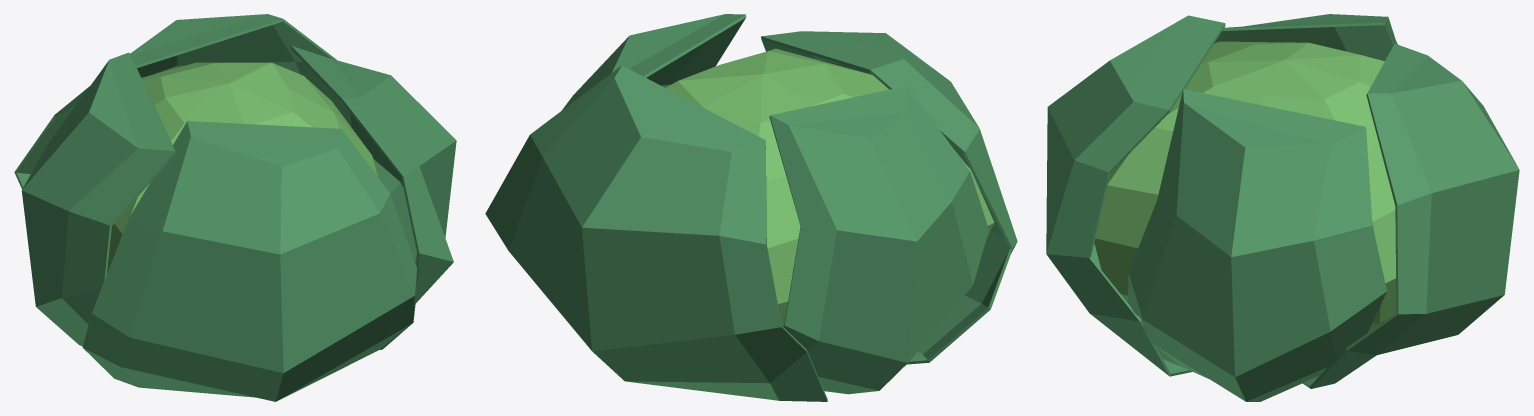
The model's file is Cabbage_Raw.fbx.
3 views of the same model, side by side, from view 1: azimuth 30°, elevation 25°; view 2: azimuth 150°, elevation 25°; view 3: azimuth 270°, elevation 25° (orthographic). The views are drawn at different scales.
Parts seen in each view (by area): view 1: SM_Cabbage_Raw; view 2: SM_Cabbage_Raw; view 3: SM_Cabbage_Raw.
Part boxes in pixels (x1,y1,x2,y2): SM_Cabbage_Raw: (14,14,456,401); SM_Cabbage_Raw: (485,14,1017,401); SM_Cabbage_Raw: (1046,14,1519,401).
Bounding box in the file's own units: 26.82 × 19.37 × 26.68.
1 material, 1 textured.
